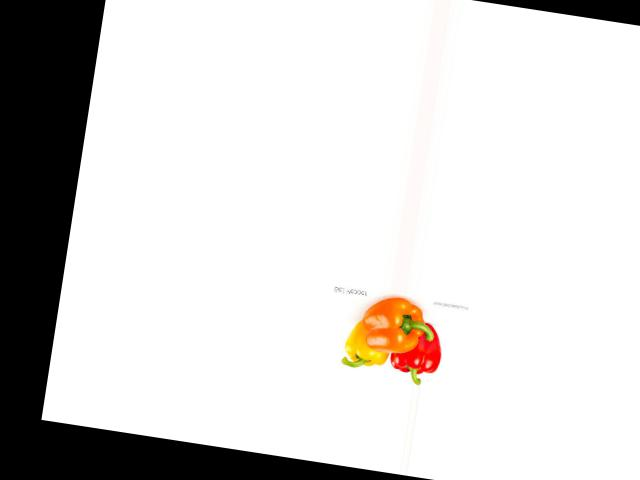bell_pepper: (338, 315, 395, 375)
